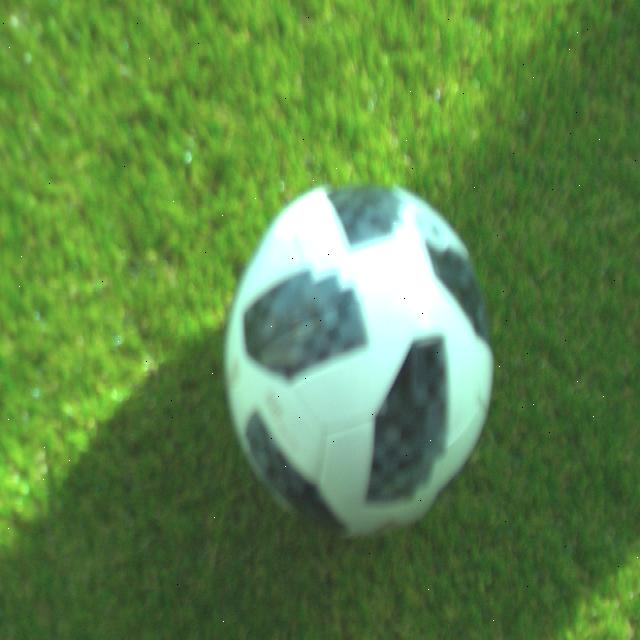ball: (223, 181, 493, 543)
